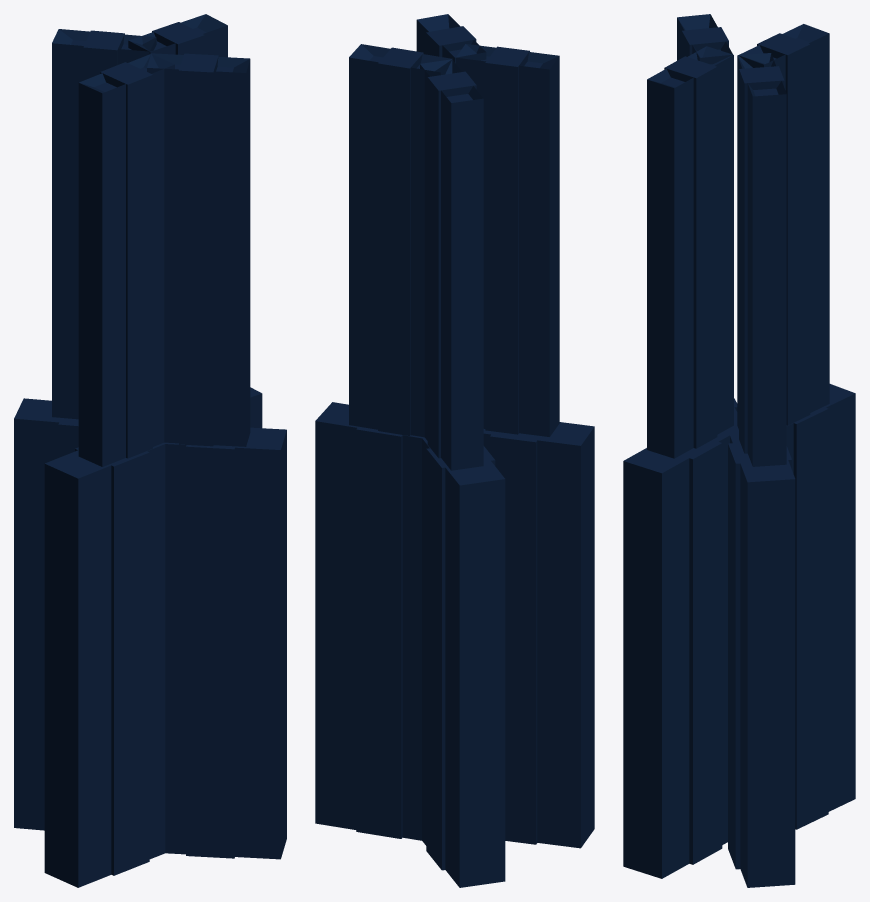
Rendered from edificio 6.fbx.
The picture shows the model from 3 angles, left to right: view 1: azimuth 30°, elevation 25°; view 2: azimuth 150°, elevation 25°; view 3: azimuth 270°, elevation 25°; orthographic projection.
Visible parts, largest first — view 1: polySurface4236; view 2: polySurface4236; view 3: polySurface4236.
Part boxes in pixels (<box>): polySurface4236: <box>14,14,286,887</box>; polySurface4236: <box>315,14,594,887</box>; polySurface4236: <box>623,14,855,887</box>.
Size of the model in its own units: 363 by 1154 by 313.
